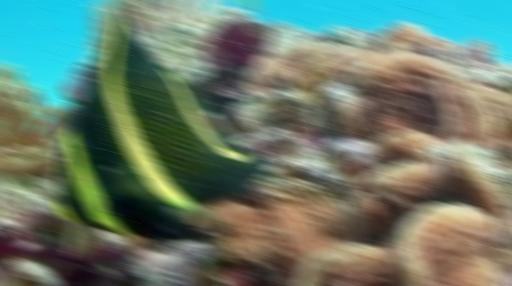Fish: (57, 0, 270, 245)
